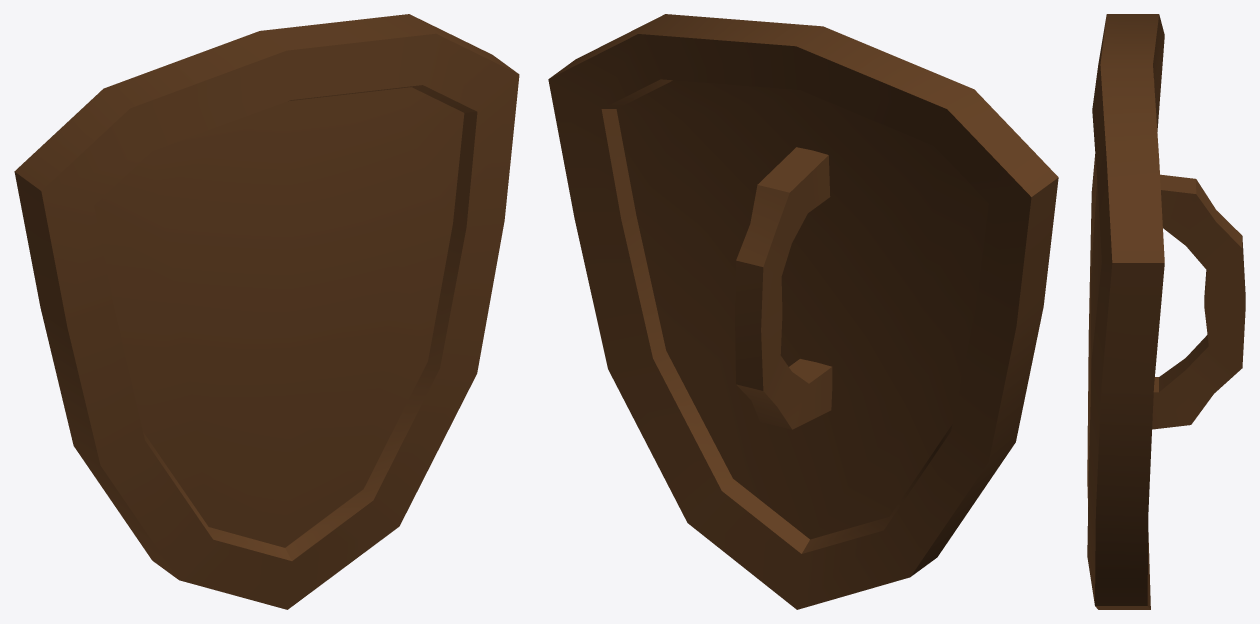
File: shields.glb
The picture shows the model from 3 angles, left to right: view 1: azimuth 30°, elevation 25°; view 2: azimuth 150°, elevation 25°; view 3: azimuth 270°, elevation 25°; orthographic projection. The views are drawn at different scales.
Parts seen in each view (by area): view 1: Shield; view 2: Shield; view 3: Shield.
Boxes of the visible parts, left/top/right/bottom form: Shield: left=14, top=14, right=519, bottom=609; Shield: left=548, top=14, right=1058, bottom=609; Shield: left=1087, top=14, right=1245, bottom=609.
Size of the model in its own units: 1.95 by 2.18 by 0.5734.
